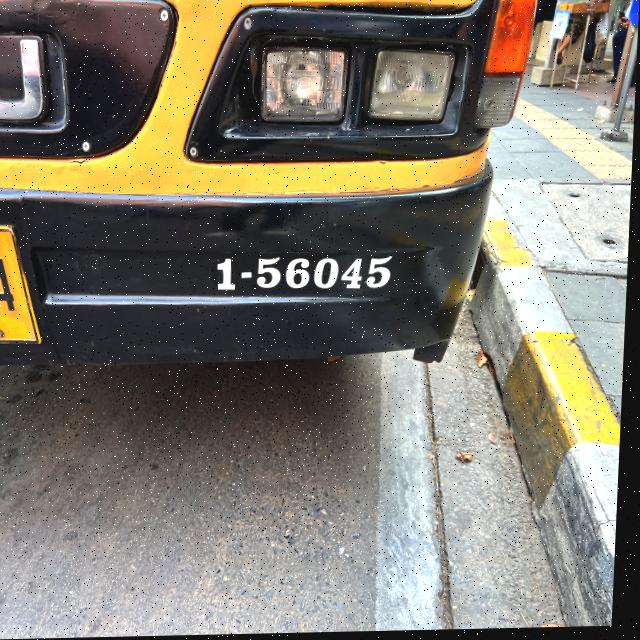BMTA-bus: (0, 0, 544, 391)
